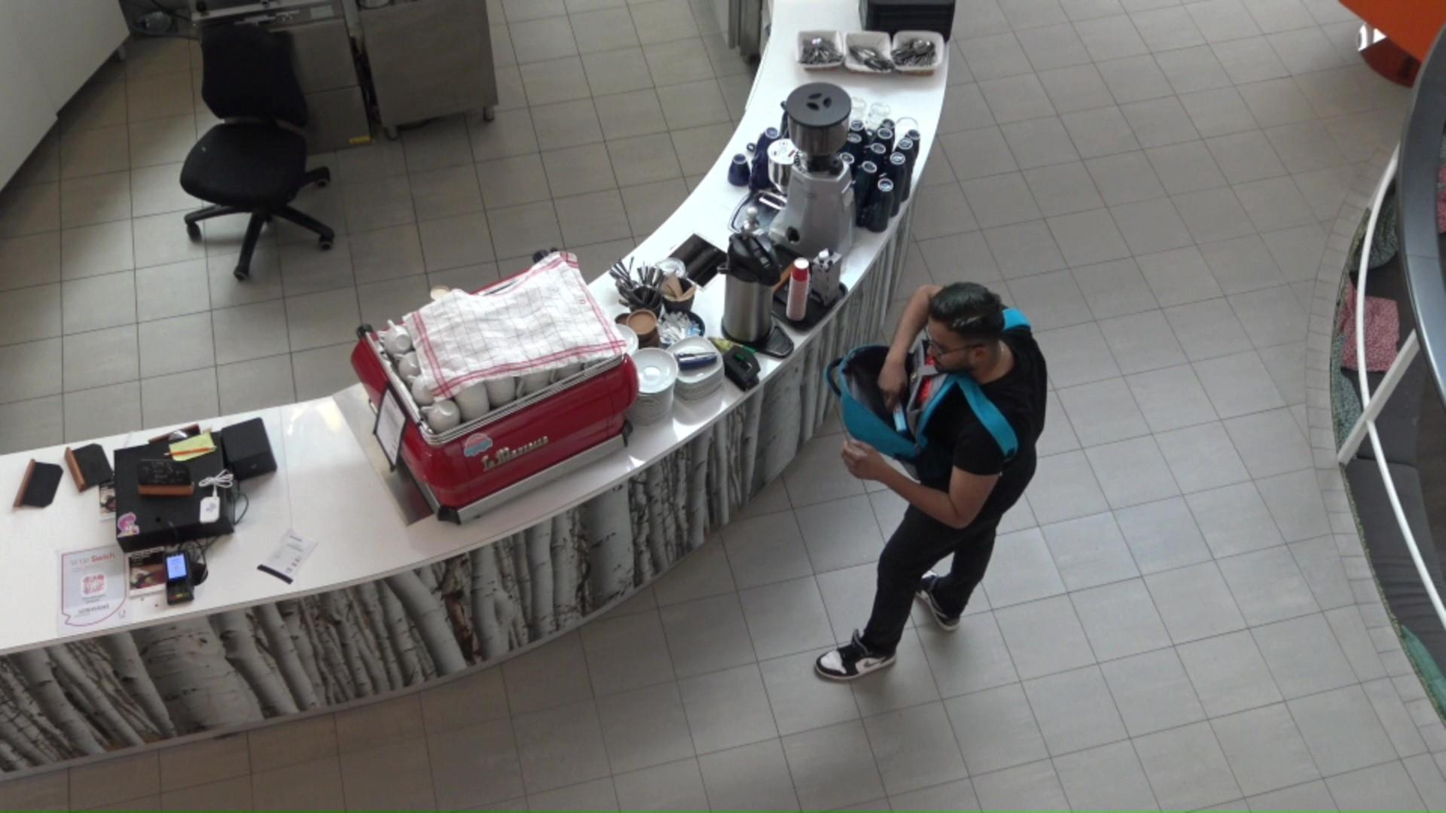shoplifting: (829, 283, 1048, 676)
